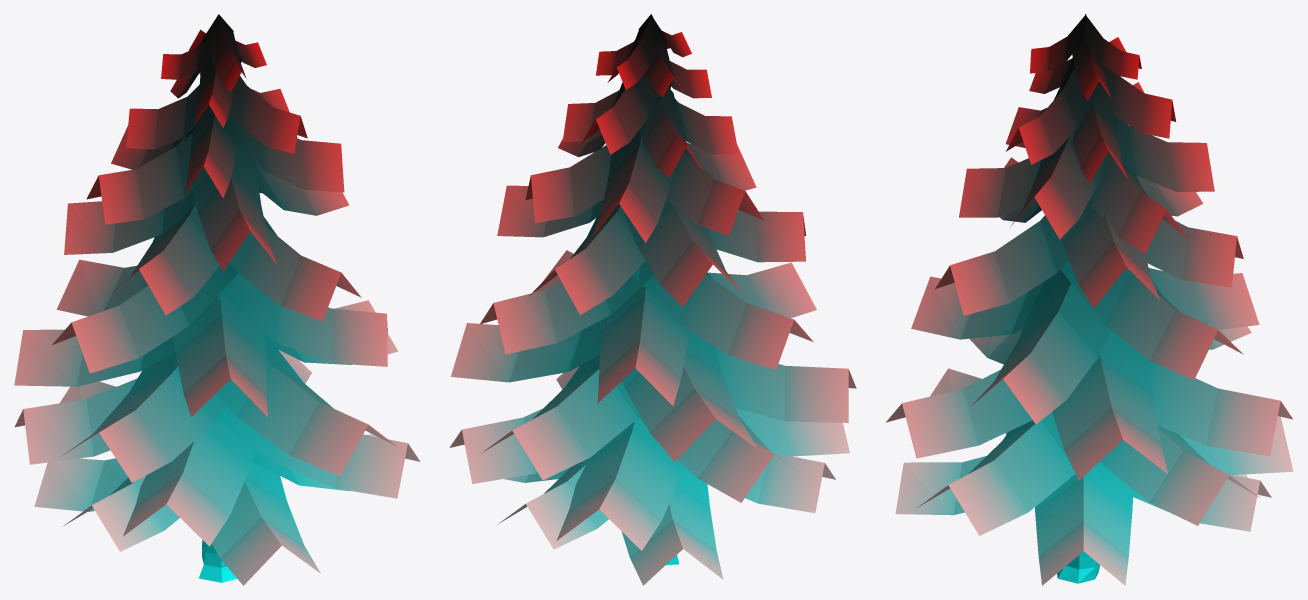
Rendered from PineTree02.fbx.
The picture shows the model from 3 angles, left to right: view 1: azimuth 30°, elevation 25°; view 2: azimuth 150°, elevation 25°; view 3: azimuth 270°, elevation 25°; orthographic projection. The views are drawn at different scales.
Parts seen in each view (by area): view 1: Leaves, Trunk; view 2: Leaves; view 3: Leaves, Trunk.
Boxes of the visible parts, x1=… form: Leaves: x1=14, y1=14, x2=420, y2=585; Trunk: x1=198, y1=540, x2=236, y2=582; Leaves: x1=449, y1=14, x2=856, y2=585; Leaves: x1=886, y1=14, x2=1293, y2=585; Trunk: x1=1057, y1=551, x2=1099, y2=583.
Bounding box in the file's own units: 552 × 822 × 543.
